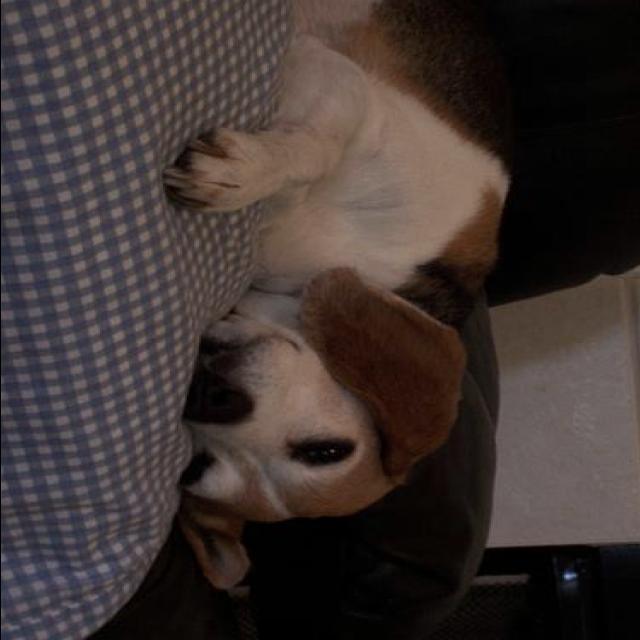beagle: (164, 2, 514, 592)
